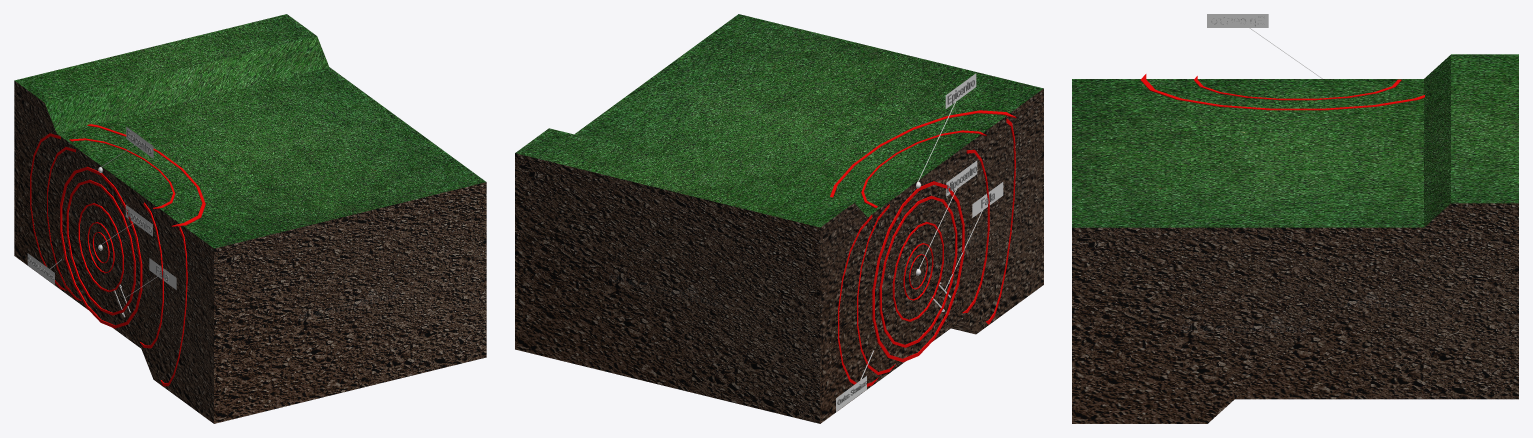
The model's file is Terremoto-Seismos.fbx.
3 renders of one model, left to right at view 1: azimuth 30°, elevation 25°; view 2: azimuth 150°, elevation 25°; view 3: azimuth 270°, elevation 25°, orthographic. The views are drawn at different scales.
Visible parts, largest first — view 1: Box002, Box001, Cylinder005, Cylinder004, Cylinder009, Cylinder003; view 2: Box001, Box002, Cylinder005, Cylinder004, Cylinder009, Cylinder003, Cylinder011, Cylinder010; view 3: Box002, Box001, Cylinder009, Plane001, Cylinder008.
Part boxes in pixels (x1,y1,x2,y2): Box002: (57,67,486,423); Box001: (14,14,328,348); Cylinder005: (60,166,142,328); Cylinder004: (66,179,135,315); Cylinder009: (87,124,205,226); Cylinder003: (78,203,123,292); Box001: (515,128,961,423); Box002: (574,14,1043,334); Cylinder005: (872,181,964,362); Cylinder004: (879,195,957,347); Cylinder009: (830,110,1016,197); Cylinder003: (892,221,943,321); Cylinder011: (985,118,1015,324); Cylinder010: (962,149,989,313); Box002: (1072,79,1423,423); Box001: (1235,54,1518,399); Cylinder009: (1140,74,1424,110); Plane001: (1207,14,1268,27); Cylinder008: (1194,76,1401,100).
Bounding box in the file's own units: 202 × 160 × 248.
Materials: 5 (3 with a texture image).
